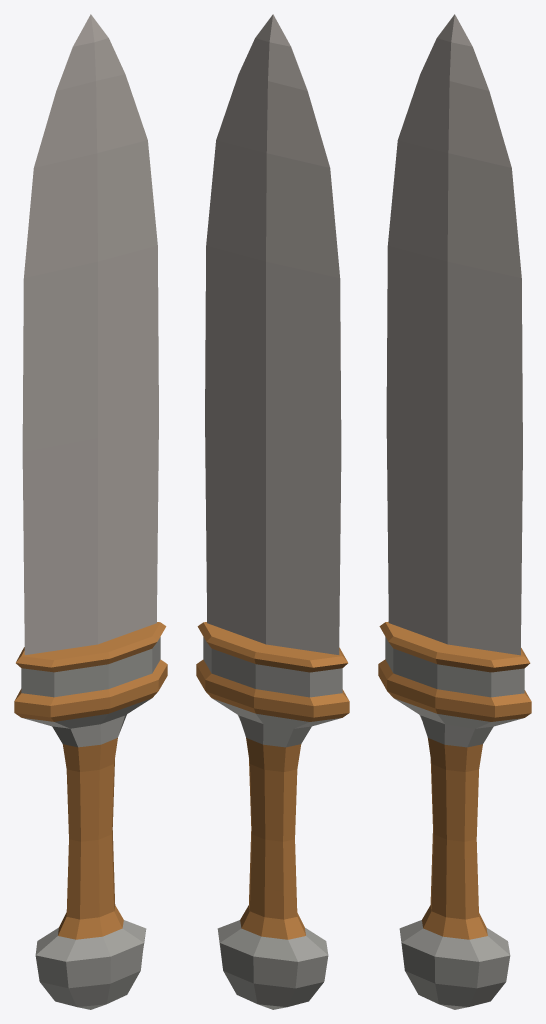
Rendered from SM_pwe_egypt_dagger_03.fbx.
3 renders of one model, left to right at view 1: azimuth 30°, elevation 25°; view 2: azimuth 150°, elevation 25°; view 3: azimuth 330°, elevation 25°, orthographic.
Visible parts, largest first — view 1: SM_pwe_egypt_dagger_03; view 2: SM_pwe_egypt_dagger_03; view 3: SM_pwe_egypt_dagger_03.
Part boxes in pixels (left/top/right/bottom): SM_pwe_egypt_dagger_03: left=14, top=14, right=167, bottom=1009; SM_pwe_egypt_dagger_03: left=196, top=14, right=349, bottom=1009; SM_pwe_egypt_dagger_03: left=378, top=14, right=531, bottom=1009.
Bounding box in the file's own units: 9.25 × 57.4 × 4.16.
